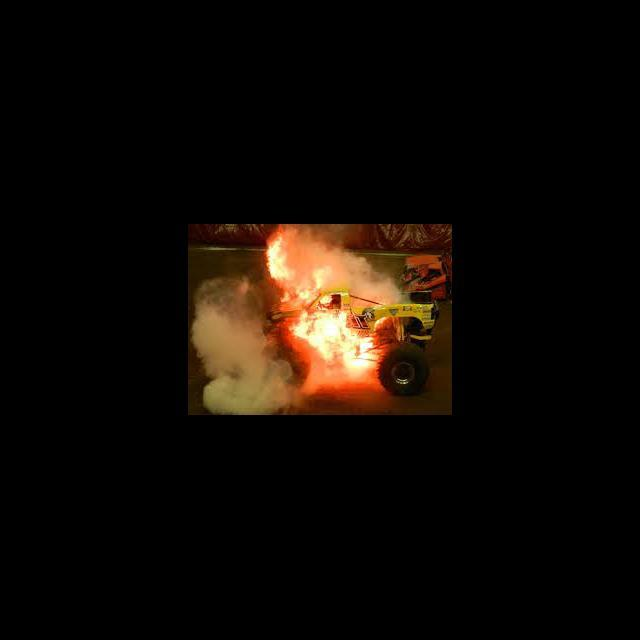Fire: (293, 310, 382, 370), (280, 262, 327, 308), (266, 234, 292, 286)
Smoke: (189, 314, 291, 414), (294, 372, 380, 408), (190, 274, 262, 314), (296, 226, 346, 254), (332, 256, 372, 286), (376, 276, 399, 298)
